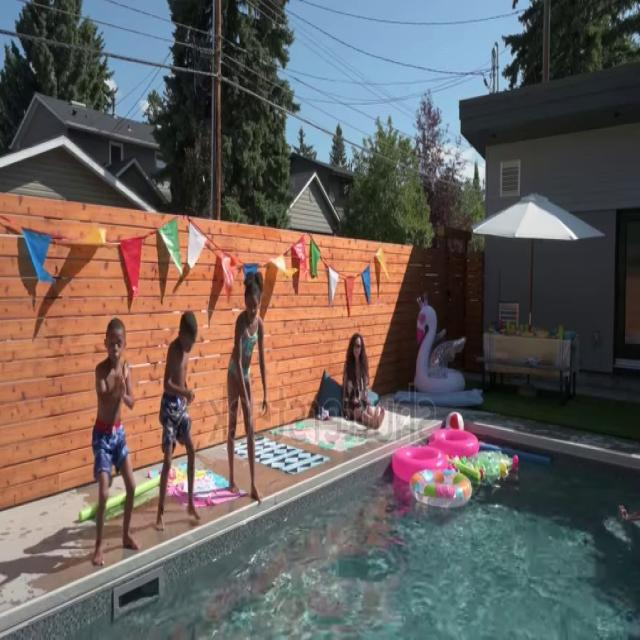adult: (343, 331, 385, 429)
child: (90, 320, 141, 570), (228, 271, 268, 501), (158, 310, 200, 528)
